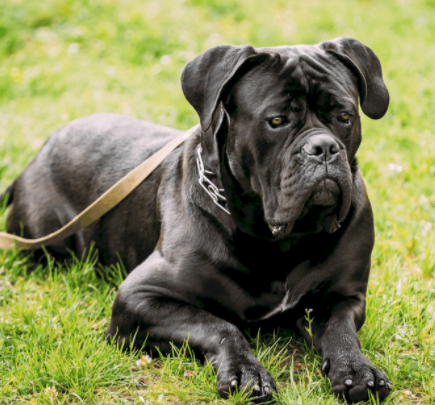dog: (9, 35, 393, 399)
